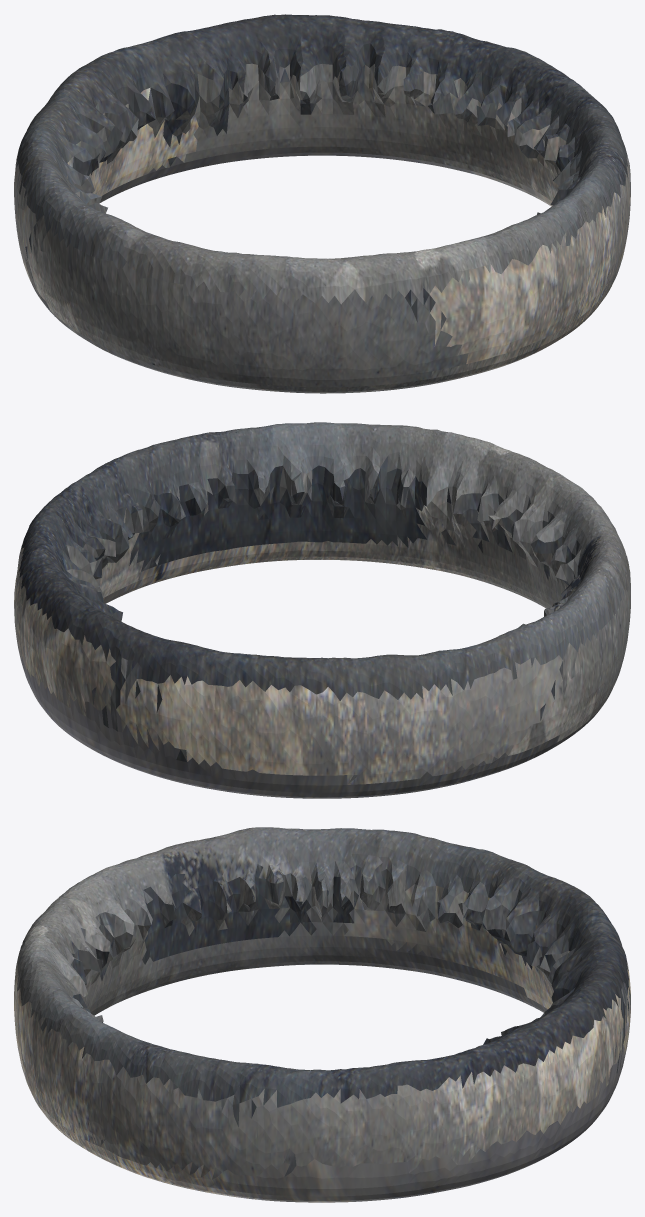
File: ring007.obj
3 renders of one model, top to bottom at view 1: azimuth 30°, elevation 25°; view 2: azimuth 150°, elevation 25°; view 3: azimuth 270°, elevation 25°, orthographic.
Visible parts, largest first — view 1: Torus; view 2: Torus; view 3: Torus.
Boxes of the visible parts, box(x1,y1,x2,y2) form: Torus: box(14, 14, 630, 393); Torus: box(14, 422, 630, 798); Torus: box(14, 827, 630, 1202).
Size of the model in its own units: 5.47 by 1.37 by 5.48.
1 material, 1 textured.
